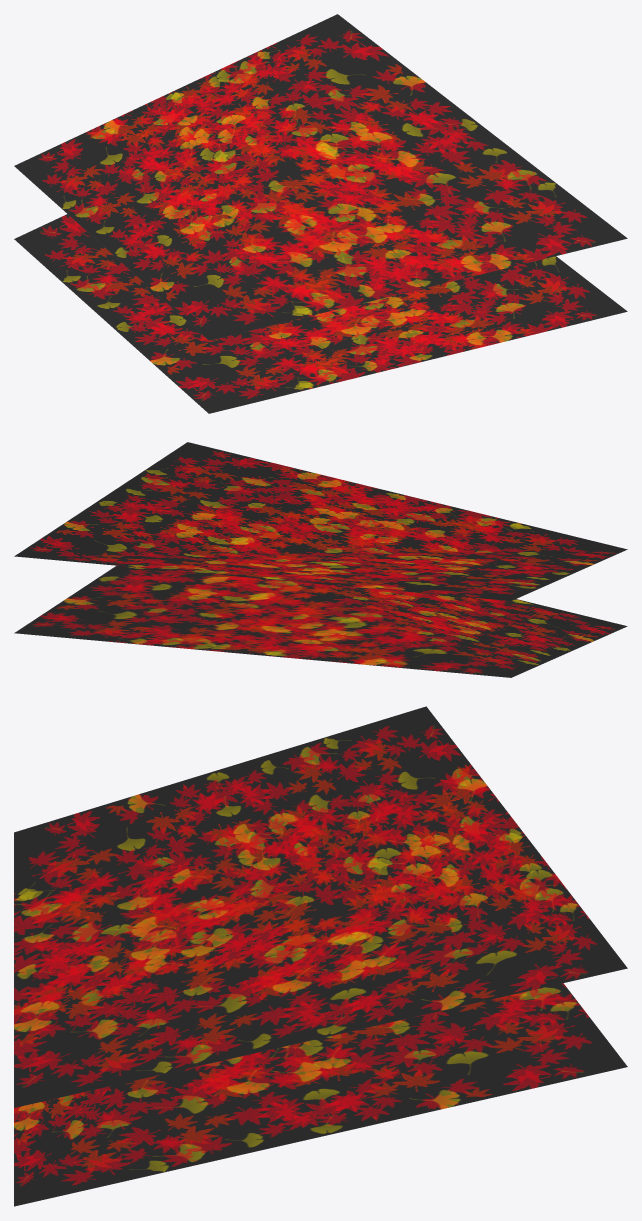
File: CourseAki_CurveFloor_3_20.fbx
The picture shows the model from 3 angles, top to bottom: view 1: azimuth 30°, elevation 25°; view 2: azimuth 150°, elevation 25°; view 3: azimuth 270°, elevation 25°; orthographic projection. The views are drawn at different scales.
Visible parts, largest first — view 1: polySurface469; view 2: polySurface469; view 3: polySurface469.
Boxes of the visible parts, x1,y1,x2,y2 form: polySurface469: [14, 14, 627, 413]; polySurface469: [14, 442, 627, 677]; polySurface469: [14, 706, 627, 1206].
Size of the model in its own units: 6.6 by 2 by 5.65.
Materials: 1 (1 with a texture image).
